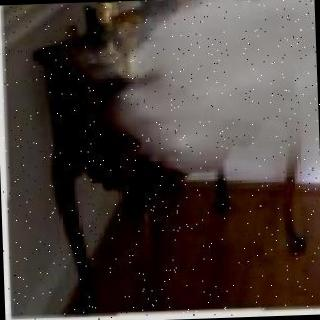smoke: (114, 0, 320, 192)
